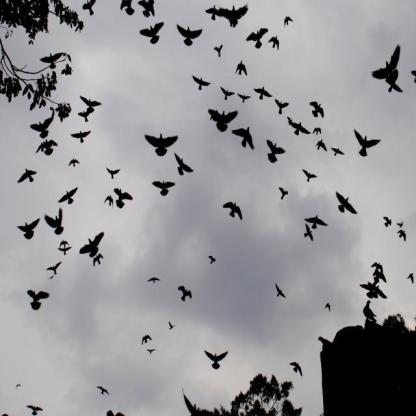bird: (345, 124, 384, 164), (142, 117, 180, 157), (193, 343, 235, 375), (23, 281, 51, 322), (76, 220, 108, 254), (172, 17, 205, 49), (205, 108, 241, 137), (20, 205, 43, 248), (141, 20, 169, 51), (36, 42, 62, 75), (263, 136, 287, 171), (232, 122, 256, 155), (174, 274, 194, 311), (332, 191, 358, 219), (288, 119, 314, 147), (245, 20, 267, 52), (295, 219, 321, 246), (28, 110, 53, 138), (77, 87, 106, 111), (152, 176, 176, 205), (269, 275, 291, 306), (190, 73, 214, 101), (175, 148, 193, 184), (305, 98, 332, 122), (304, 210, 330, 234), (224, 198, 244, 227), (114, 185, 132, 217), (19, 165, 39, 191), (61, 178, 80, 205), (253, 81, 275, 103), (273, 96, 291, 119), (72, 127, 94, 145), (207, 250, 221, 277), (287, 355, 304, 377), (22, 401, 46, 416), (269, 34, 285, 56), (302, 169, 320, 188), (382, 211, 396, 234), (92, 252, 107, 272), (137, 328, 157, 343), (214, 42, 226, 66), (236, 60, 250, 80), (95, 379, 109, 398), (104, 164, 121, 179), (102, 193, 115, 212), (67, 155, 83, 169), (220, 84, 236, 98), (147, 270, 160, 286), (278, 185, 289, 203), (403, 268, 416, 283), (284, 16, 294, 34), (397, 229, 408, 245)
